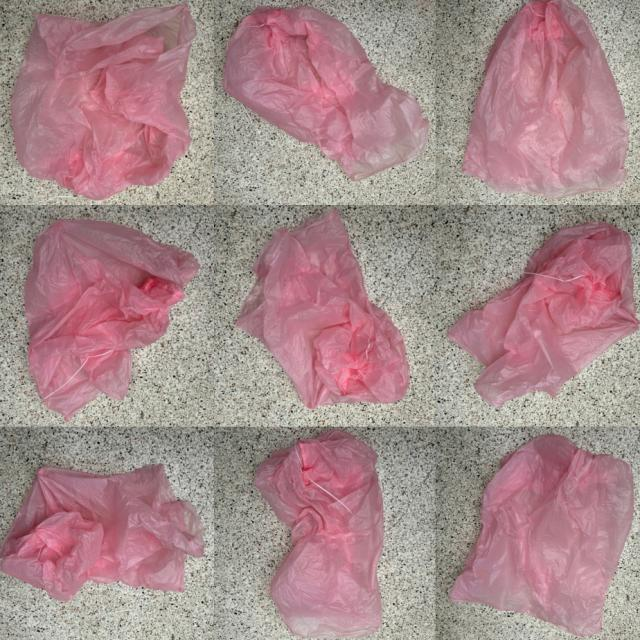plastik: (451, 435, 634, 635), (11, 5, 196, 200), (222, 7, 429, 181), (224, 7, 429, 181), (447, 223, 639, 407), (25, 220, 199, 421), (235, 209, 409, 408), (463, 0, 627, 199), (1, 465, 204, 600), (255, 430, 383, 638)
